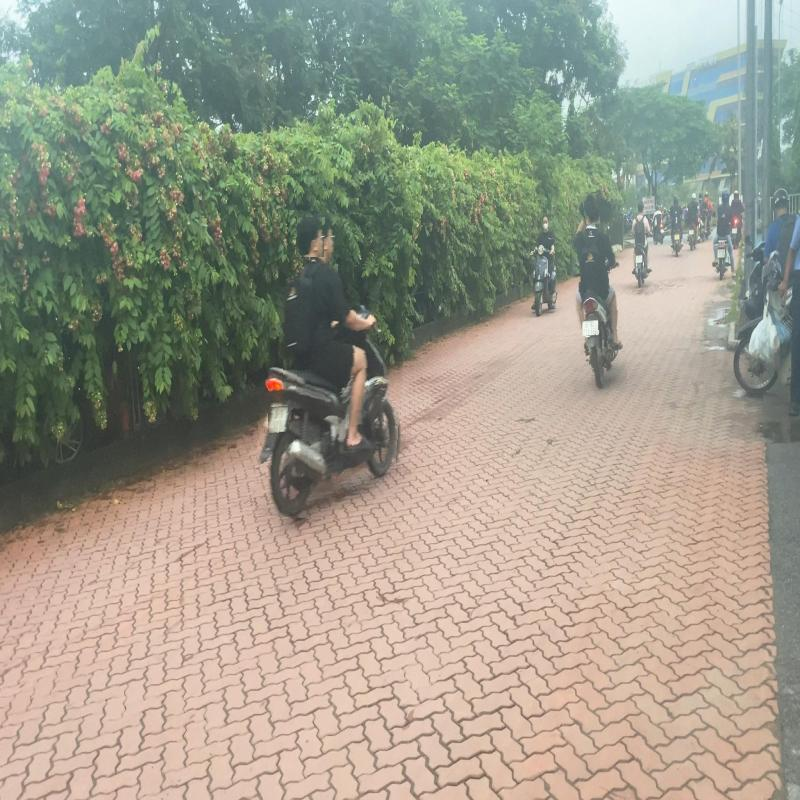licenseplate: (268, 407, 290, 433), (582, 320, 596, 336)
motorcyclist: (257, 210, 408, 522), (570, 192, 624, 391)
nohelmet: (296, 217, 326, 257), (582, 194, 599, 224)
